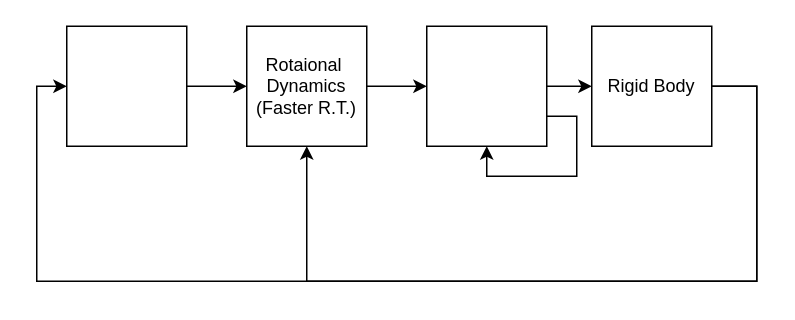
The diagram is 795 pixels wide and 320 high, and some of its shapes have lost their labels. Here are the shapes that lost their labels. From the top down, the box of each, then its label:
(65, 25, 187, 146): Translational Dynamics (Slow R.T.)
(425, 25, 547, 146): Motor Commands (Fastest R.T.)
